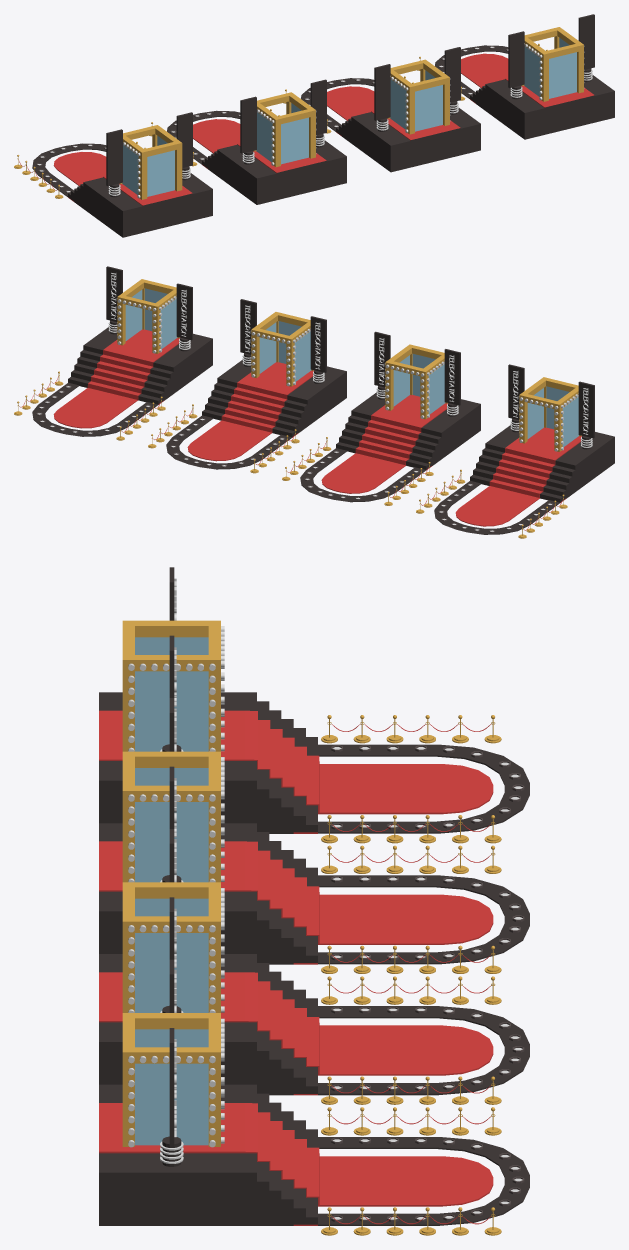
File: teleportation.fbx
The picture shows the model from 3 angles, top to bottom: view 1: azimuth 30°, elevation 25°; view 2: azimuth 150°, elevation 25°; view 3: azimuth 270°, elevation 25°; orthographic projection. The views are drawn at different scales.
Visible parts, largest first — view 1: Cube.052; view 2: Cube.052; view 3: Cube.052.
Part boxes in pixels (x1,y1,x2,y2): Cube.052: [14, 14, 614, 237]; Cube.052: [14, 266, 614, 538]; Cube.052: [99, 567, 529, 1235].
Bounding box in the file's own units: 4077 × 688 × 1487.
Materials: 5 (2 with a texture image).
